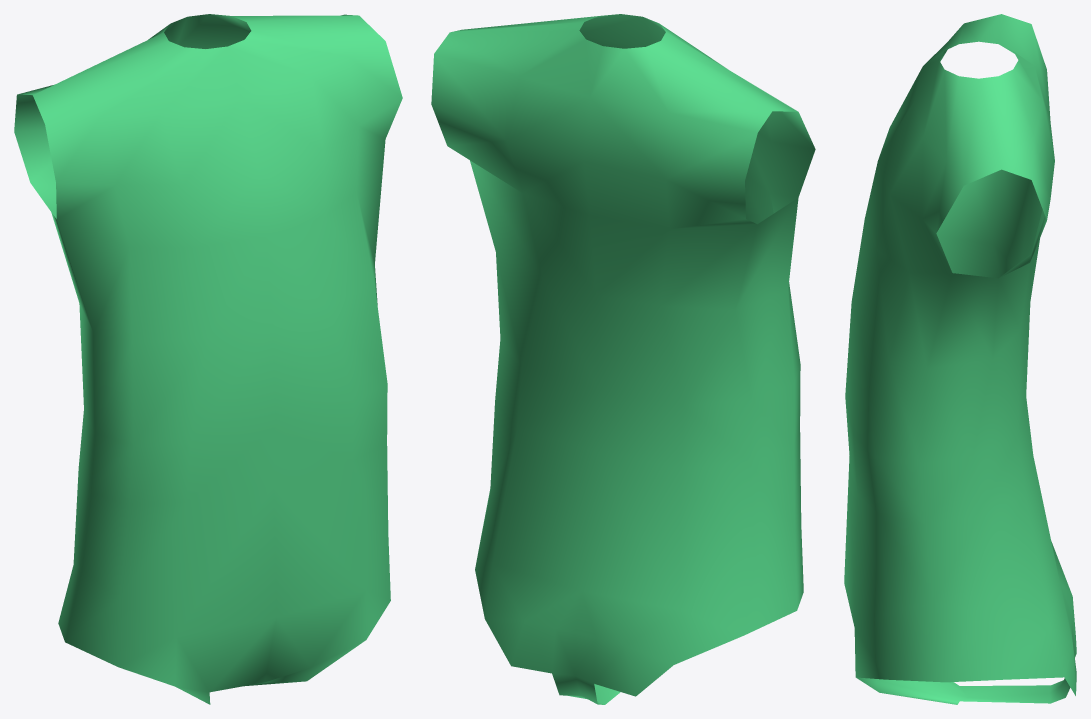
The model's file is NM_zombie_body.obj.
3 views of the same model, side by side, from view 1: azimuth 30°, elevation 25°; view 2: azimuth 150°, elevation 25°; view 3: azimuth 270°, elevation 25° (orthographic). The views are drawn at different scales.
Visible parts, largest first — view 1: Cylinder001; view 2: Cylinder001; view 3: Cylinder001.
Part boxes in pixels (x1,y1,x2,y2): Cylinder001: (14, 14, 402, 704); Cylinder001: (431, 14, 815, 704); Cylinder001: (844, 14, 1076, 704).
Bounding box in the file's own units: 14.68 × 26.41 × 8.74.
